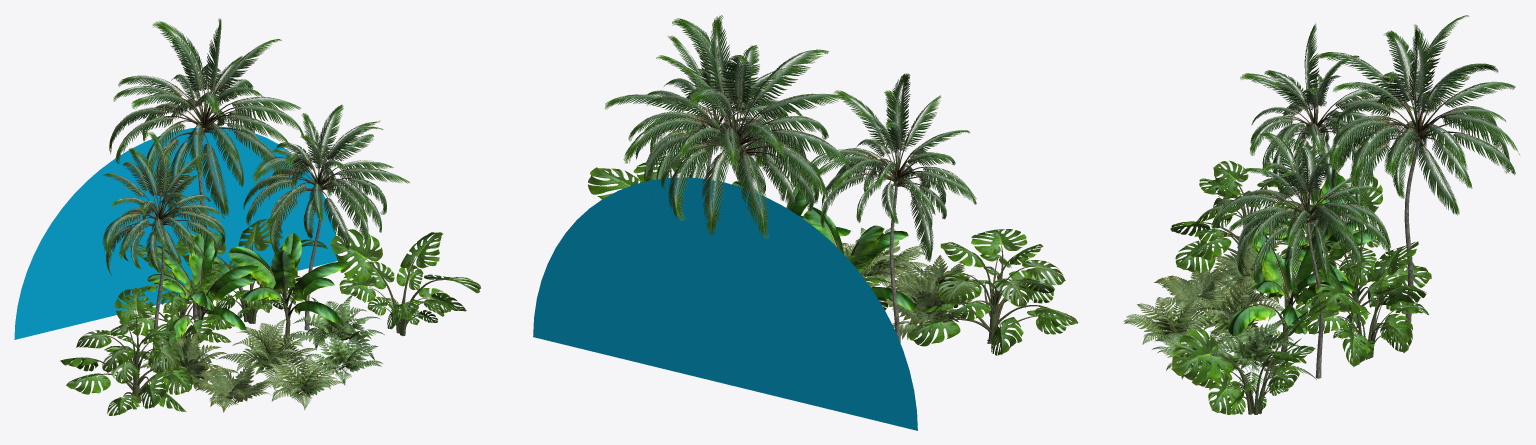
File: MZRa_Pack_M02P.fbx
3 renders of one model, left to right at view 1: azimuth 30°, elevation 25°; view 2: azimuth 150°, elevation 25°; view 3: azimuth 270°, elevation 25°, orthographic. The views are drawn at different scales.
Visible parts, largest first — view 1: Circle, SM_MZRa_Palm_B082, SM_MZRa_Palm_B081, SM_MZRa_Palm_B083, tree.006SM_MZRa_Monstera_B071, tree.002SM_MZRa_Monstera_B074, SM_MZRa_Banana_B092, SM_MZRa_Banana_B091, tree.007SM_MZRa_Monstera_B072, SM_MZRa_Fern_B052, tree.003SM_MZRa_Monstera_B073, SM_MZRa_Fern_B053 (+4 smaller); view 2: Circle, SM_MZRa_Palm_B082, SM_MZRa_Palm_B083, tree.006SM_MZRa_Monstera_B071, SM_MZRa_Palm_B081, SM_MZRa_Fern_B051, SM_MZRa_Banana_B091, tree.002SM_MZRa_Monstera_B074, SM_MZRa_Fern_B0522, SM_MZRa_Fern_B0512, SM_MZRa_Banana_B092, tree.007SM_MZRa_Monstera_B072 (+1 smaller); view 3: SM_MZRa_Palm_B082, SM_MZRa_Palm_B081, SM_MZRa_Palm_B083, tree.002SM_MZRa_Monstera_B074, tree.003SM_MZRa_Monstera_B073, tree.006SM_MZRa_Monstera_B071, SM_MZRa_Banana_B092, tree.007SM_MZRa_Monstera_B072, SM_MZRa_Fern_B052, SM_MZRa_Fern_B053, SM_MZRa_Fern_B0522, SM_MZRa_Banana_B091 (+3 smaller).
Boxes of the visible parts, <box> form: Circle: <box>14,127,337,339</box>; SM_MZRa_Palm_B082: <box>109,18,303,319</box>; SM_MZRa_Palm_B081: <box>243,104,409,330</box>; SM_MZRa_Palm_B083: <box>102,132,225,365</box>; tree.006SM_MZRa_Monstera_B071: <box>60,288,197,415</box>; tree.002SM_MZRa_Monstera_B074: <box>330,229,480,335</box>; SM_MZRa_Banana_B092: <box>228,232,348,348</box>; SM_MZRa_Banana_B091: <box>147,232,258,344</box>; tree.007SM_MZRa_Monstera_B072: <box>119,244,234,346</box>; SM_MZRa_Fern_B052: <box>216,319,316,390</box>; tree.003SM_MZRa_Monstera_B073: <box>176,218,327,323</box>; SM_MZRa_Fern_B053: <box>285,294,384,360</box>; Circle: <box>533,177,917,430</box>; SM_MZRa_Palm_B082: <box>623,15,851,238</box>; SM_MZRa_Palm_B083: <box>809,73,976,343</box>; tree.006SM_MZRa_Monstera_B071: <box>908,229,1078,355</box>; SM_MZRa_Palm_B081: <box>605,28,802,200</box>; SM_MZRa_Fern_B051: <box>879,270,982,339</box>; SM_MZRa_Banana_B091: <box>803,207,916,310</box>; tree.002SM_MZRa_Monstera_B074: <box>588,147,695,199</box>; SM_MZRa_Fern_B0522: <box>842,227,927,288</box>; SM_MZRa_Fern_B0512: <box>887,255,982,309</box>; SM_MZRa_Banana_B092: <box>732,165,850,236</box>; tree.007SM_MZRa_Monstera_B072: <box>847,246,890,309</box>; SM_MZRa_Palm_B082: <box>1314,15,1520,338</box>; SM_MZRa_Palm_B081: <box>1211,132,1390,378</box>; SM_MZRa_Palm_B083: <box>1240,23,1414,255</box>; tree.002SM_MZRa_Monstera_B074: <box>1171,300,1327,414</box>; tree.003SM_MZRa_Monstera_B073: <box>1307,241,1428,367</box>; tree.006SM_MZRa_Monstera_B071: <box>1170,160,1316,286</box>; SM_MZRa_Banana_B092: <box>1228,224,1356,352</box>; tree.007SM_MZRa_Monstera_B072: <box>1295,173,1431,332</box>; SM_MZRa_Fern_B052: <box>1183,279,1293,346</box>; SM_MZRa_Fern_B053: <box>1199,319,1316,393</box>; SM_MZRa_Fern_B0522: <box>1123,297,1215,349</box>; SM_MZRa_Banana_B091: <box>1254,173,1377,316</box>.
Size of the model in its own units: 1036 by 727 by 767.
Materials: 11 (10 with a texture image).
